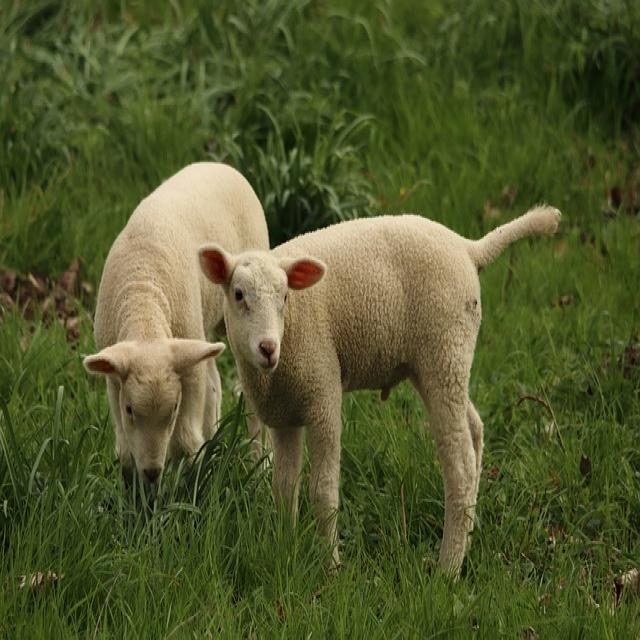goat: (197, 206, 564, 575), (82, 162, 271, 517)
